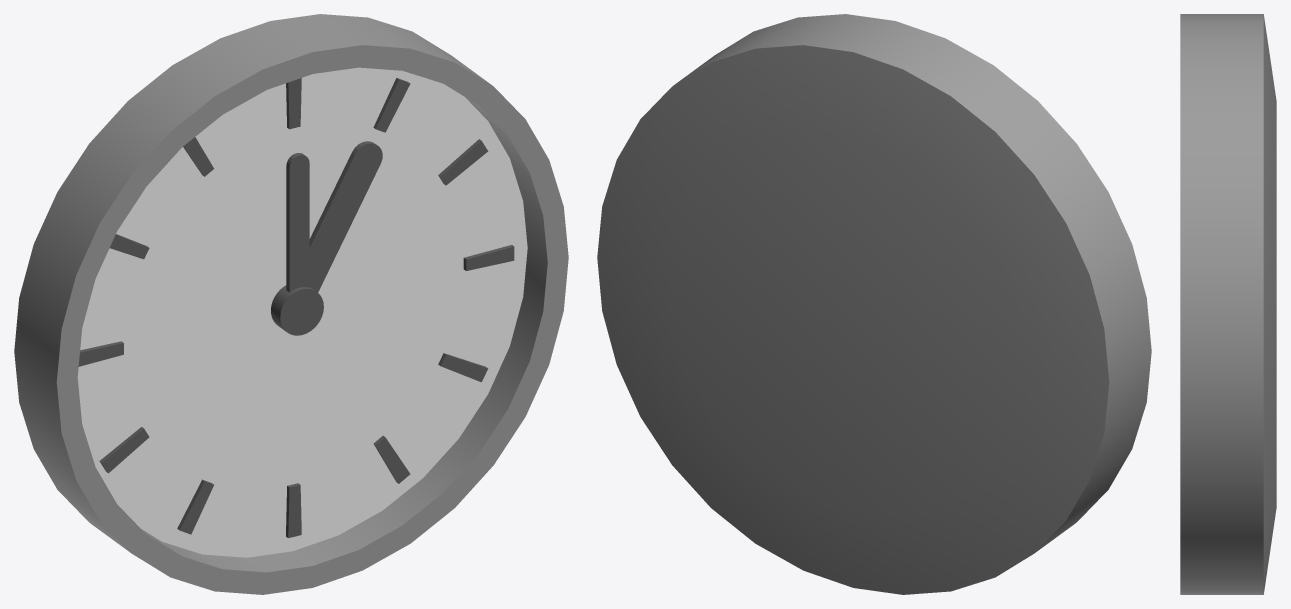
Rendered from one_oclock.gltf.
The picture shows the model from 3 angles, left to right: view 1: azimuth 30°, elevation 25°; view 2: azimuth 150°, elevation 25°; view 3: azimuth 270°, elevation 25°; orthographic projection.
Parts seen in each view (by area): view 1: Circle.2435; view 2: Circle.2435; view 3: Circle.2435.
Part boxes in pixels (box(x1,y1,x2,y2)): Circle.2435: box(14, 14, 568, 594); Circle.2435: box(597, 14, 1151, 594); Circle.2435: box(1180, 14, 1276, 594).
Bounding box in the file's own units: 2.33 × 2.33 × 0.387.
1 material, 1 textured.
